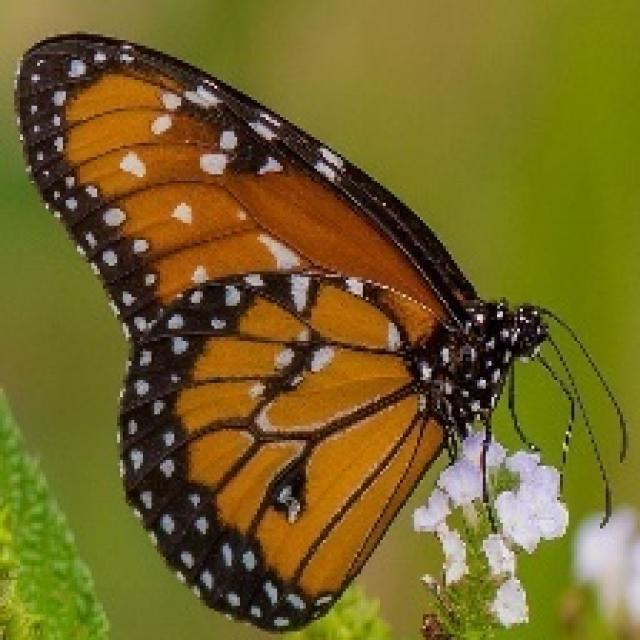butterfly: (17, 33, 631, 631)
